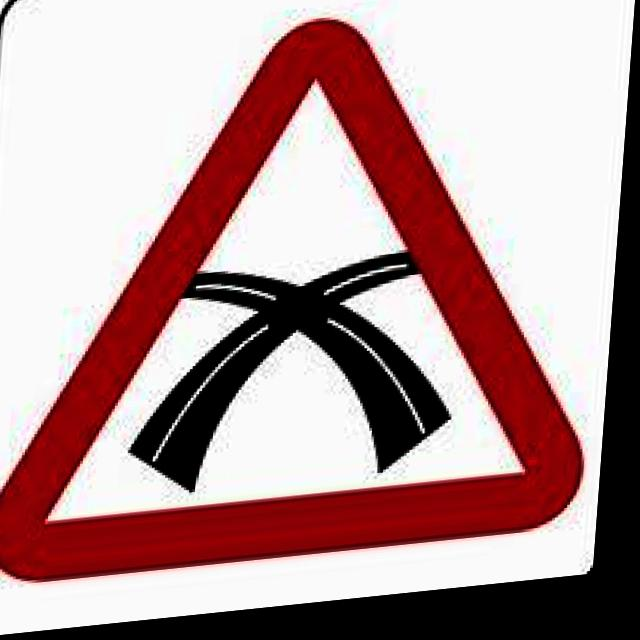CROSS_ROAD: (0, 0, 619, 588)
